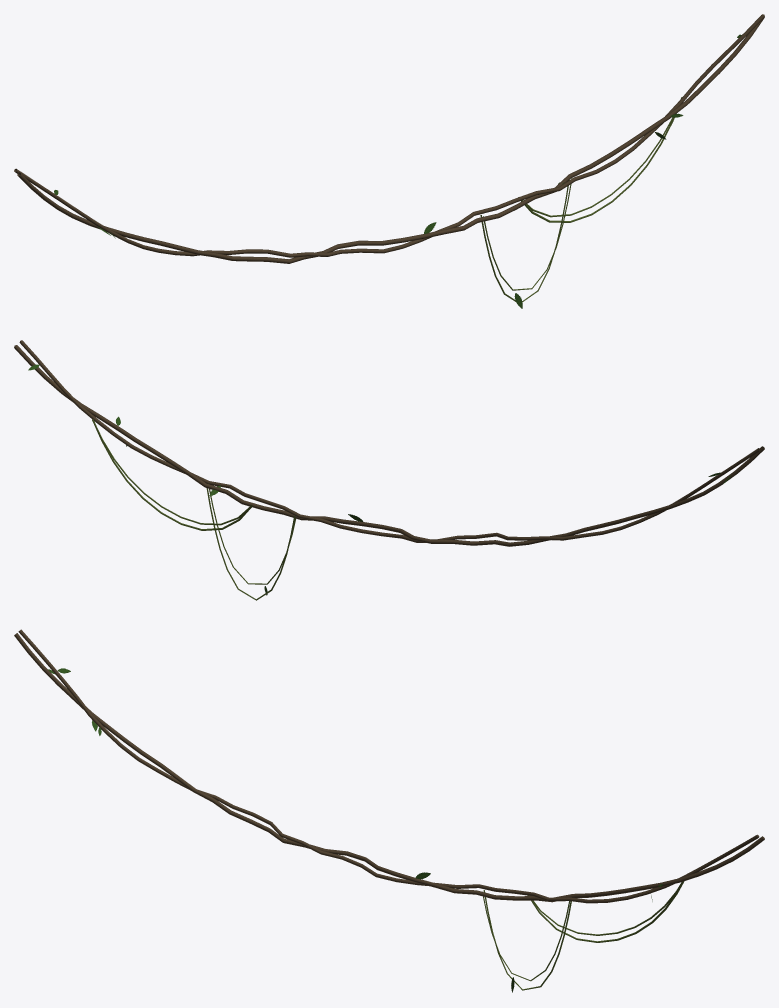
Rendered from liana_span_thorn_03_lod1.gltf.
3 views of the same model, one above another, from view 1: azimuth 30°, elevation 25°; view 2: azimuth 150°, elevation 25°; view 3: azimuth 330°, elevation 25° (orthographic). The views are drawn at different scales.
Parts seen in each view (by area): view 1: liana_span_thorn_03; view 2: liana_span_thorn_03; view 3: liana_span_thorn_03.
Part boxes in pixels (<box>): liana_span_thorn_03: <box>14,14,764,308</box>; liana_span_thorn_03: <box>14,340,764,600</box>; liana_span_thorn_03: <box>14,629,764,992</box>.
Size of the model in its own units: 6.03 by 2.06 by 0.5974.
3 materials, 3 textured.
